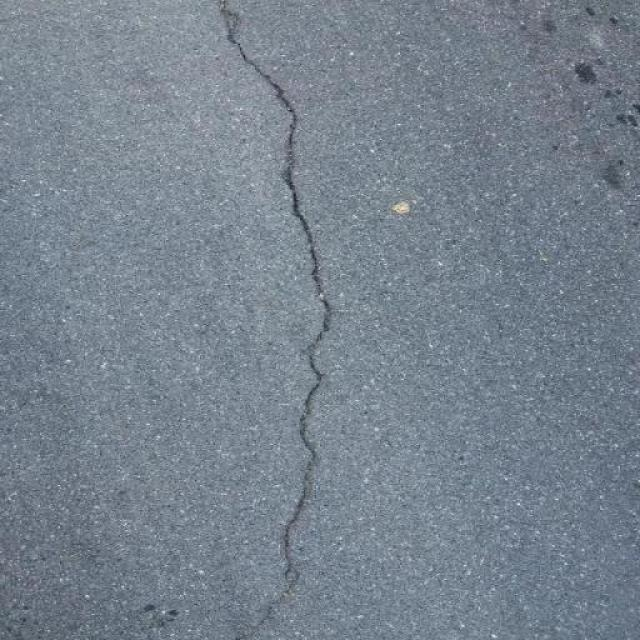Crack: (186, 0, 345, 640)
